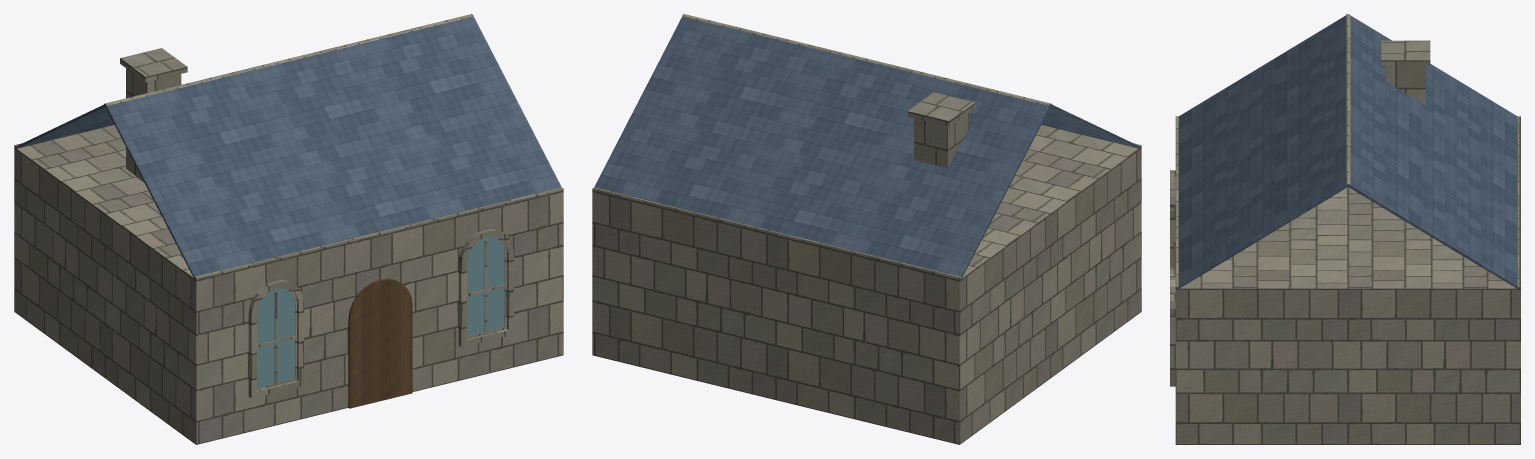
Rendered from Furn_Hut.fbx.
3 views of the same model, side by side, from view 1: azimuth 30°, elevation 25°; view 2: azimuth 150°, elevation 25°; view 3: azimuth 270°, elevation 25° (orthographic). The views are drawn at different scales.
Parts seen in each view (by area): view 1: Furn_Hut_Mesh; view 2: Furn_Hut_Mesh; view 3: Furn_Hut_Mesh.
Part boxes in pixels (x1,y1,x2,y2): Furn_Hut_Mesh: (14, 14, 563, 444); Furn_Hut_Mesh: (592, 14, 1141, 444); Furn_Hut_Mesh: (1170, 14, 1520, 444).
Size of the model in its own units: 7 by 5 by 6.1.
